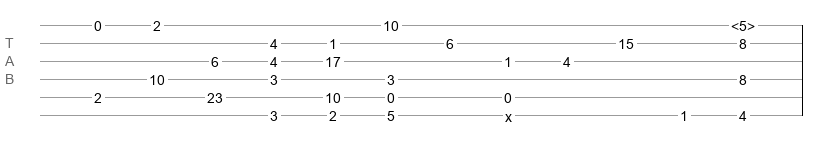0: (94, 18, 102, 28), (387, 90, 395, 100), (504, 90, 512, 100)
1: (329, 36, 337, 46), (504, 54, 512, 64), (680, 108, 688, 118)
10: (149, 72, 165, 82), (325, 90, 341, 100), (383, 18, 399, 28)
15: (618, 36, 634, 46)
17: (325, 54, 341, 64)
2: (94, 90, 102, 100), (153, 18, 161, 28), (329, 108, 337, 118)
23: (207, 90, 223, 100)
3: (270, 108, 278, 118), (270, 72, 278, 82), (387, 72, 395, 82)
4: (270, 54, 278, 64), (270, 36, 278, 46), (563, 54, 571, 64), (739, 108, 747, 118)
5: (387, 108, 395, 118)
6: (211, 54, 219, 64), (446, 36, 454, 46)
8: (739, 72, 747, 82), (739, 36, 747, 46)
harmonic: (731, 18, 755, 28)
x: (505, 109, 512, 117)
